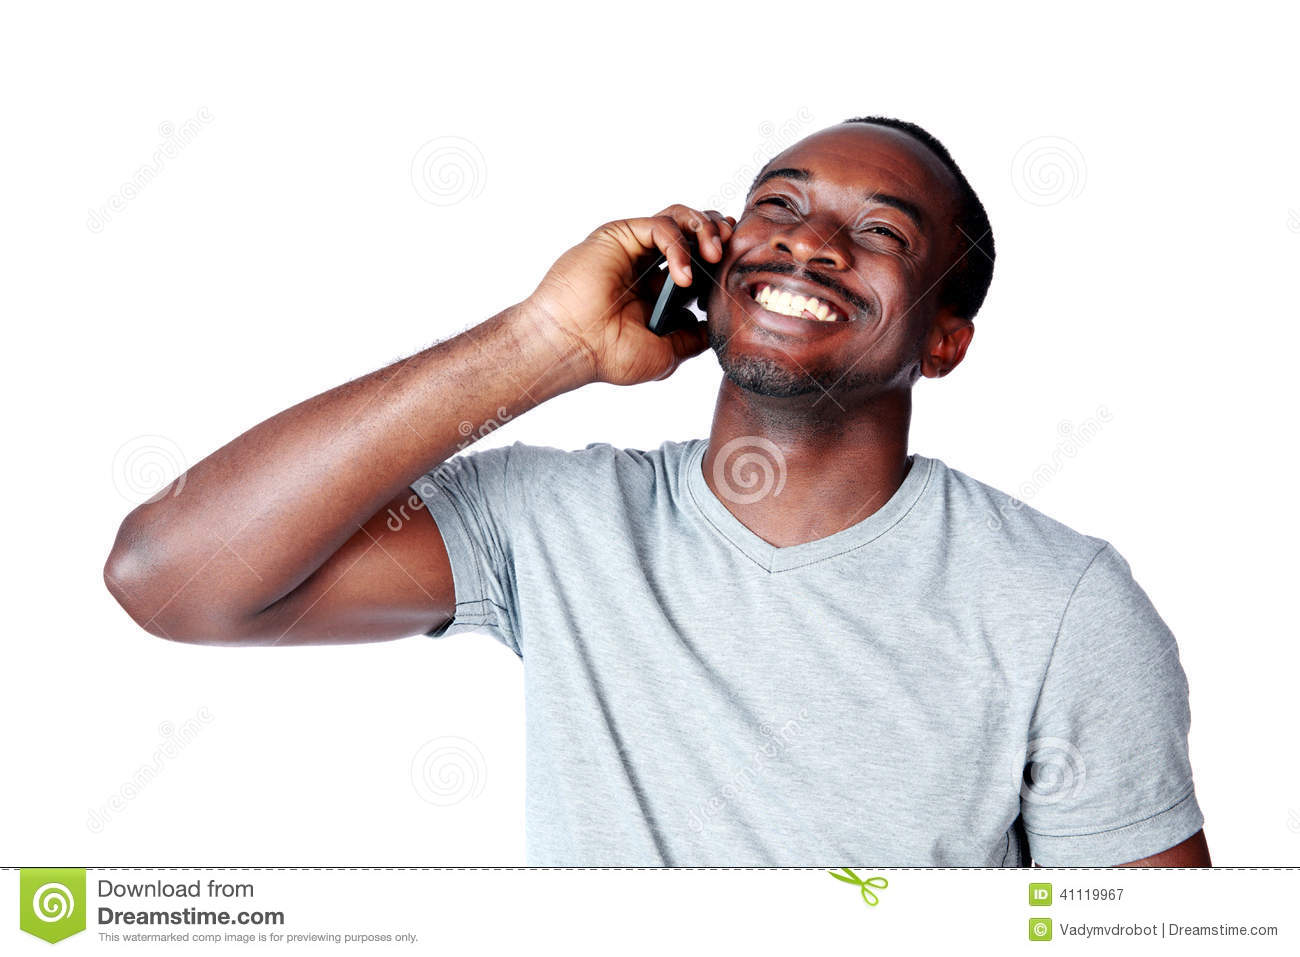phone: (647, 226, 722, 329)
talk: (551, 158, 928, 419)
